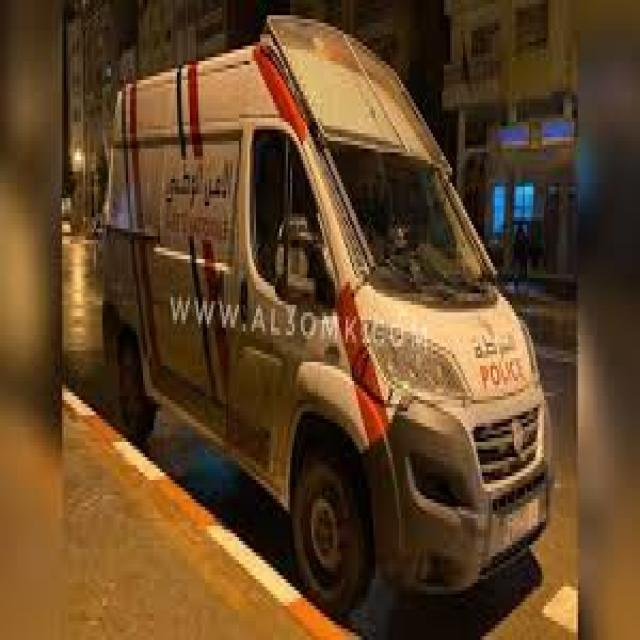Police car: (93, 3, 558, 634)
